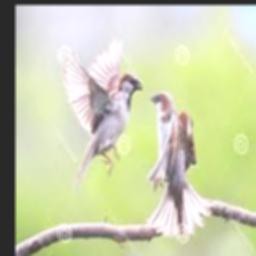Sparrow: (63, 44, 143, 187), (147, 92, 212, 240)
